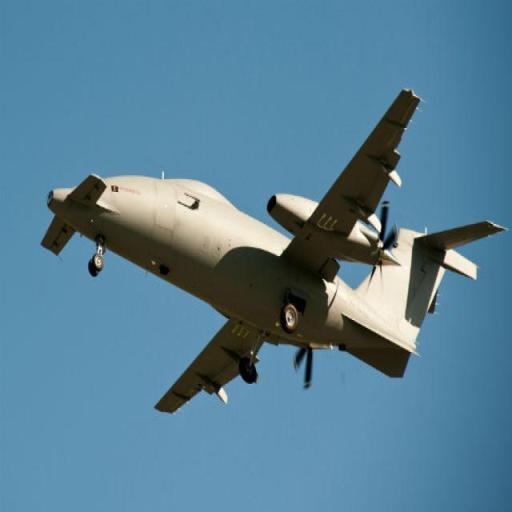uav: (37, 83, 512, 435)
